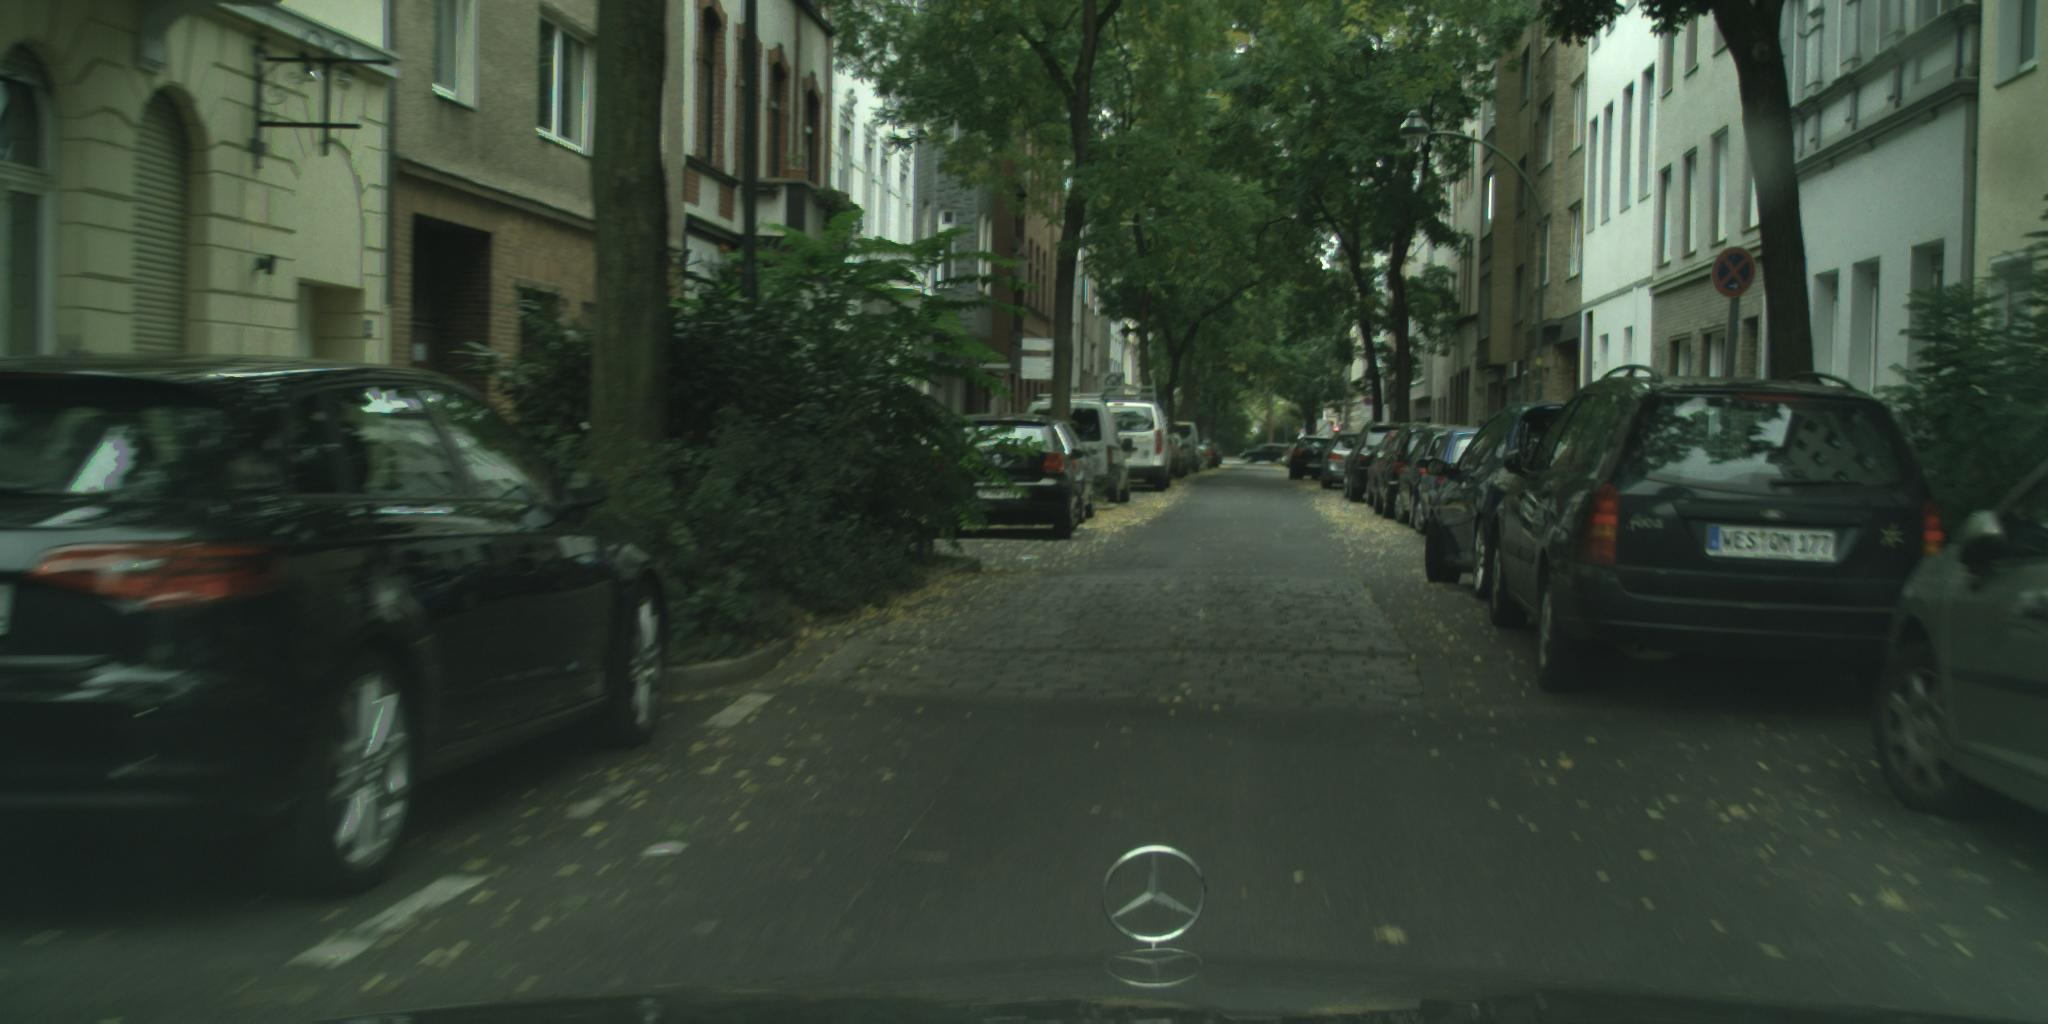car: (1, 353, 669, 899), (1489, 366, 1951, 699), (1872, 448, 2048, 820), (1425, 400, 1588, 600), (930, 414, 1087, 543), (1025, 394, 1136, 505), (1000, 414, 1098, 519), (1098, 380, 1174, 495), (1394, 423, 1471, 529), (1415, 428, 1490, 533), (1373, 426, 1443, 520), (1343, 423, 1418, 505), (1366, 428, 1426, 509), (1408, 432, 1451, 526), (1320, 430, 1368, 490), (1160, 421, 1202, 475), (1287, 438, 1336, 481), (1159, 435, 1191, 481), (1238, 443, 1294, 468)
